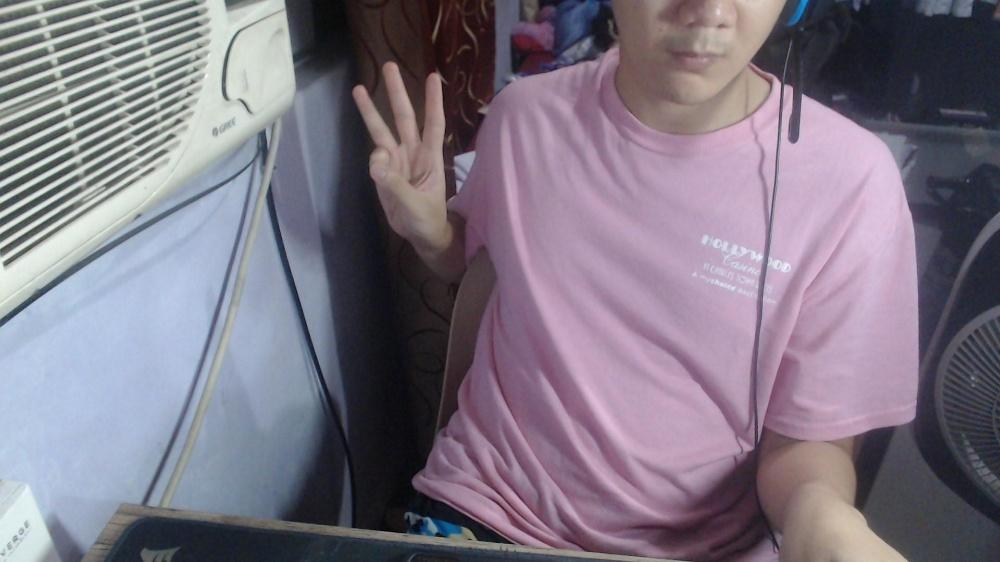w: (350, 57, 450, 246)
